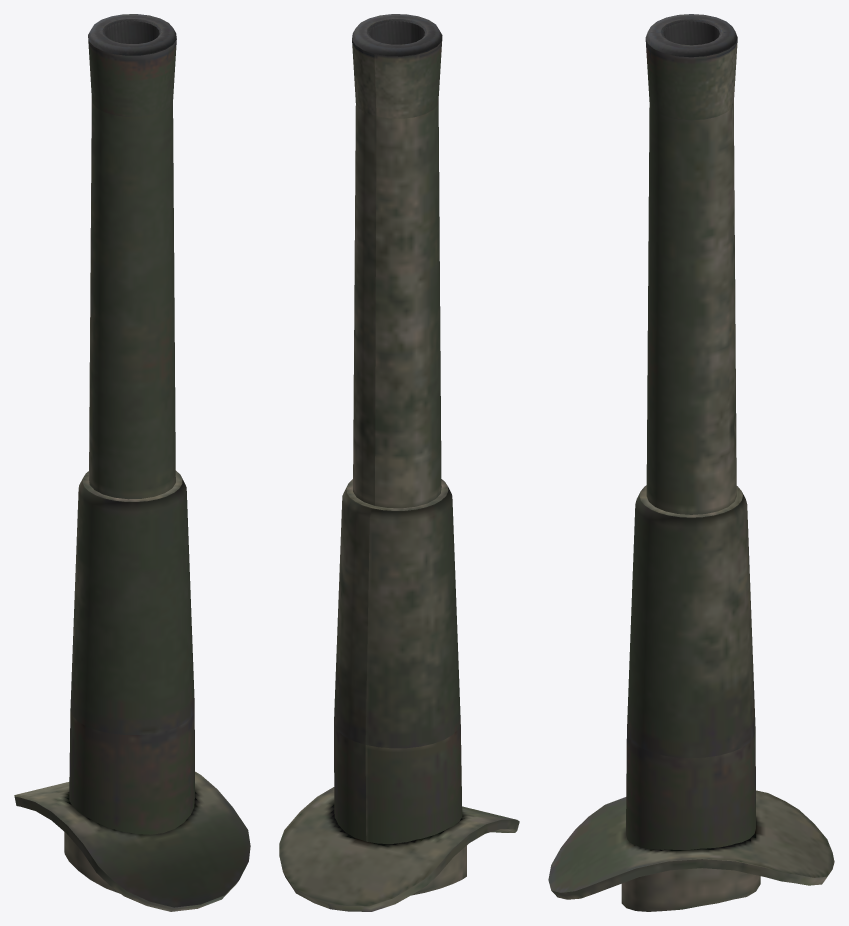
File: Gun_02.glb
3 views of the same model, side by side, from view 1: azimuth 30°, elevation 25°; view 2: azimuth 150°, elevation 25°; view 3: azimuth 270°, elevation 25° (orthographic). The views are drawn at different scales.
Parts seen in each view (by area): view 1: set_0_group_0; view 2: set_0_group_0; view 3: set_0_group_0.
Part boxes in pixels (x1=…): set_0_group_0: x1=14, y1=14, x2=250, y2=911; set_0_group_0: x1=279, y1=14, x2=519, y2=911; set_0_group_0: x1=548, y1=14, x2=834, y2=911.
Size of the model in its own units: 0.2368 by 1.27 by 0.3795.
1 material, 1 textured.
